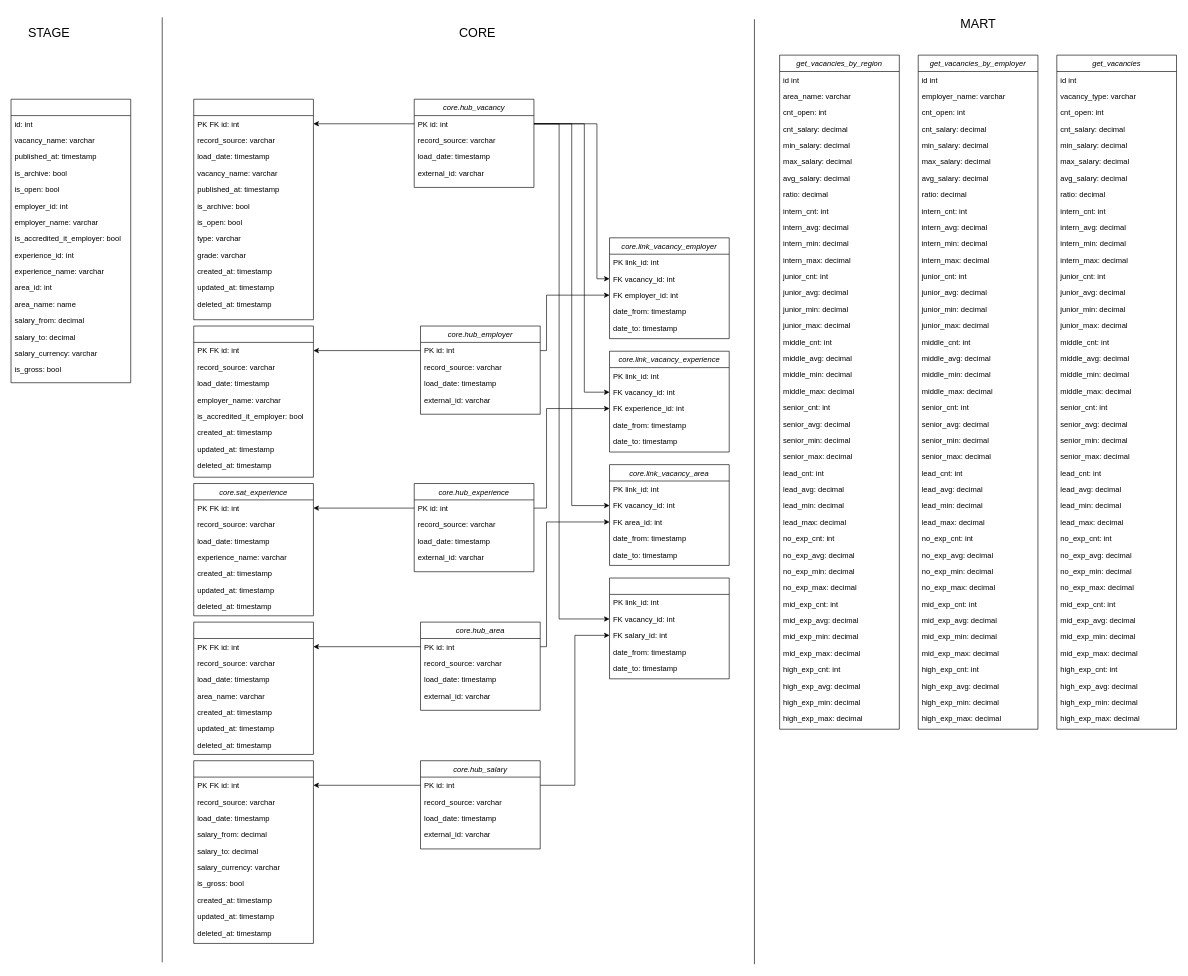
This 1188x976 diagram has some shape labels left out. The shapes that lost their labels are listed below. From the top down, each one's box as (x1, y1, x2, y2) in pixels, then its label:
(193, 99, 313, 320): core.sat_vacancy
(10, 99, 131, 383): stage.vacancy
(193, 325, 313, 477): core.sat_employer
(609, 577, 729, 679): core.link_vacancy_salary
(193, 621, 313, 754): core.sat_area
(193, 760, 313, 943): core.sat_salary
